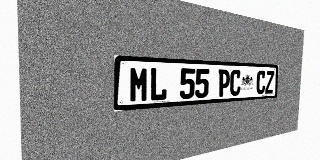5: (180, 68, 195, 99), (195, 69, 209, 98)
C: (229, 70, 241, 96), (256, 70, 266, 94)
L: (149, 67, 167, 101)
M: (129, 66, 149, 103)
P: (217, 69, 230, 97)
Z: (265, 71, 274, 94)
